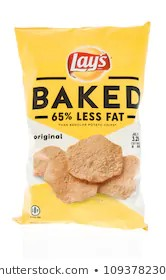lays-med: (6, 23, 156, 228)
